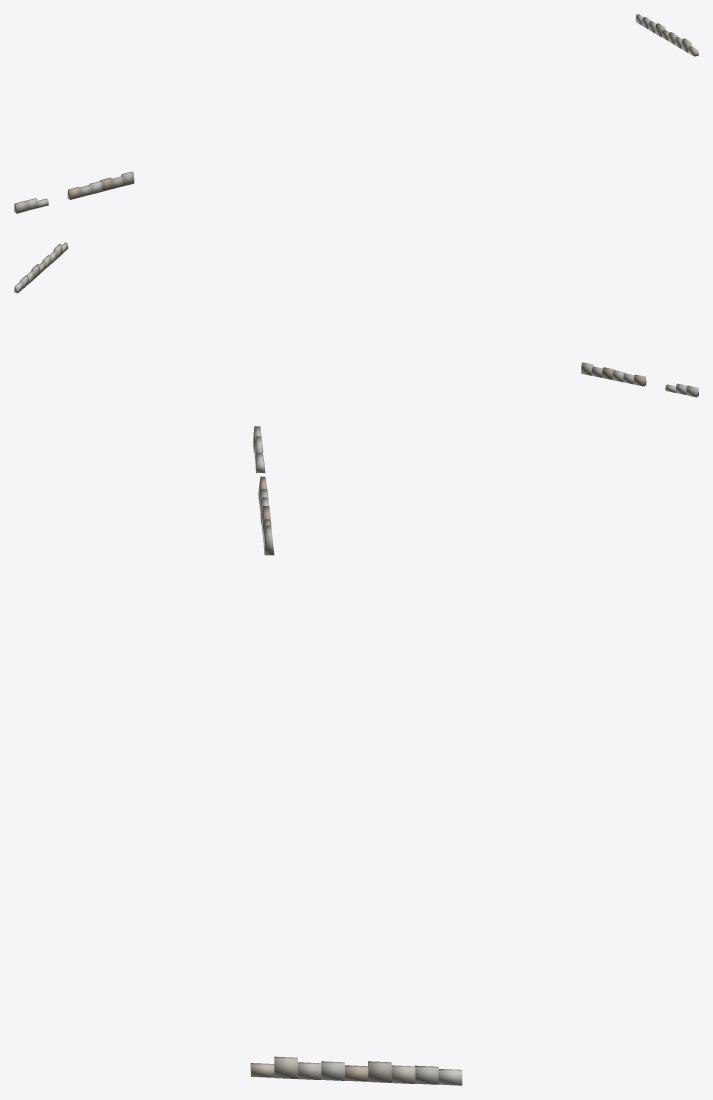
The model's file is farm_37_21_collision.glb.
The picture shows the model from 3 angles, top to bottom: view 1: azimuth 30°, elevation 25°; view 2: azimuth 150°, elevation 25°; view 3: azimuth 270°, elevation 25°; orthographic projection. The views are drawn at different scales.
Visible parts, largest first — view 1: geometry_0; view 2: geometry_0; view 3: geometry_0.
Part boxes in pixels (x1=…): geometry_0: x1=14, y1=14, x2=698, y2=213; geometry_0: x1=14, y1=242, x2=698, y2=397; geometry_0: x1=250, y1=426, x2=462, y2=1085.
Bounding box in the file's own units: 98.55 × 3.17 × 14.21.
